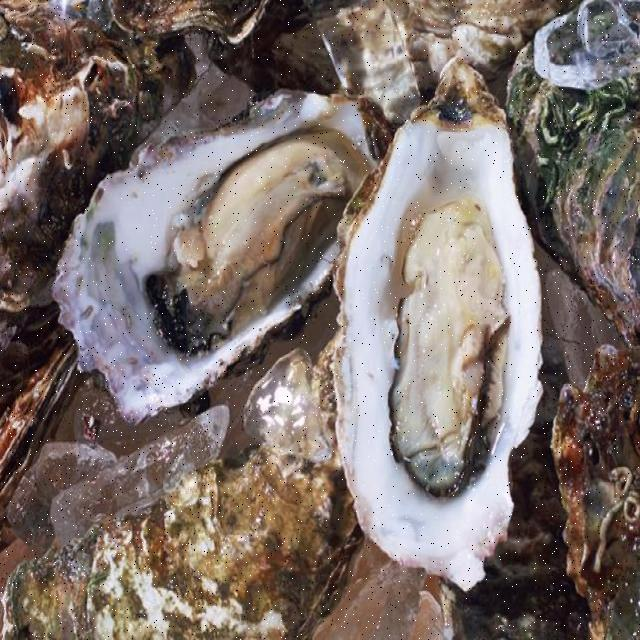Oyster-Closed: (0, 426, 362, 640)
Oyster-Open: (330, 53, 546, 595), (51, 85, 383, 423)
